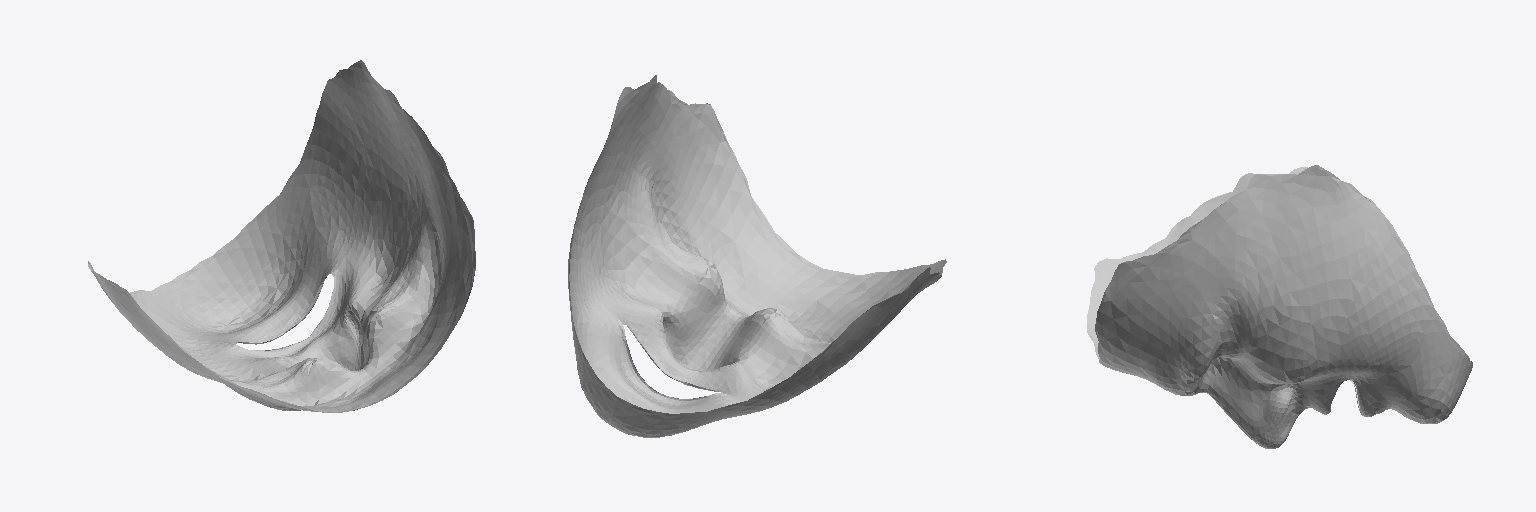
Rendered from face_gab_sfm24.obj.
3 renders of one model, left to right at view 1: azimuth 30°, elevation 25°; view 2: azimuth 150°, elevation 25°; view 3: azimuth 270°, elevation 25°, orthographic.
Size of the model in its own units: 164 by 155 by 179.